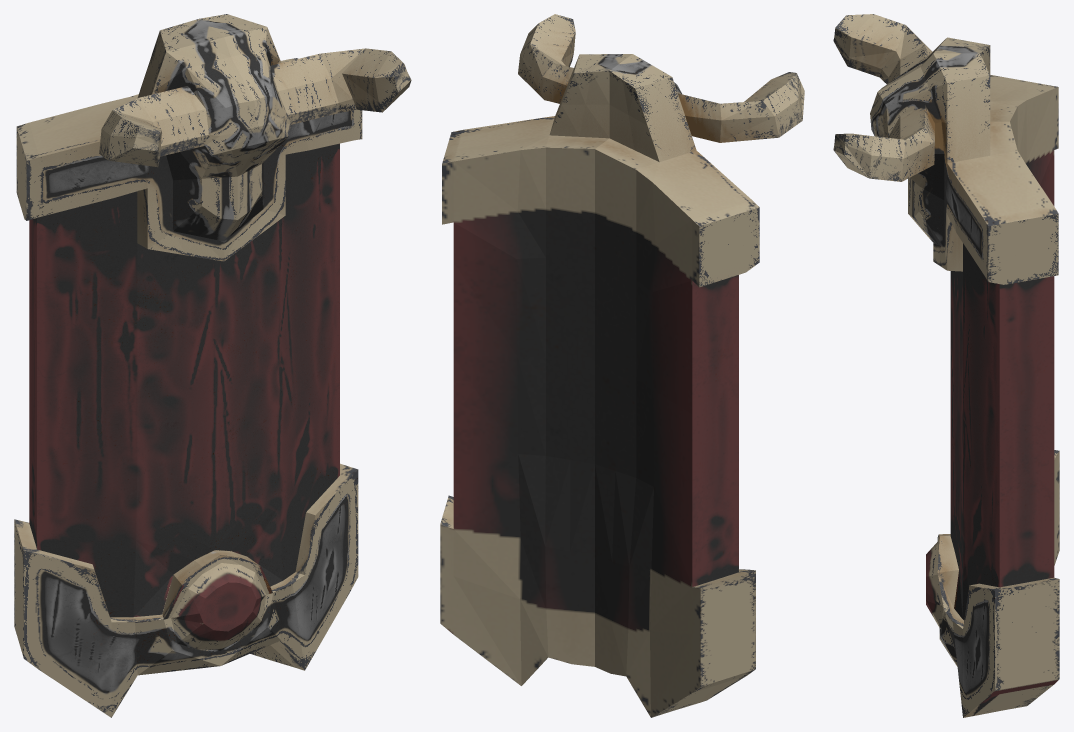
Rendered from Bone Shield.fbx.
3 views of the same model, side by side, from view 1: azimuth 30°, elevation 25°; view 2: azimuth 150°, elevation 25°; view 3: azimuth 270°, elevation 25° (orthographic). The views are drawn at different scales.
Parts seen in each view (by area): view 1: Bone_Shield; view 2: Bone_Shield; view 3: Bone_Shield.
Part boxes in pixels (<box>): Bone_Shield: <box>14,14,411,717</box>; Bone_Shield: <box>440,14,804,717</box>; Bone_Shield: <box>833,14,1059,717</box>.
Bounding box in the file's own units: 140 × 267 × 88.23.
